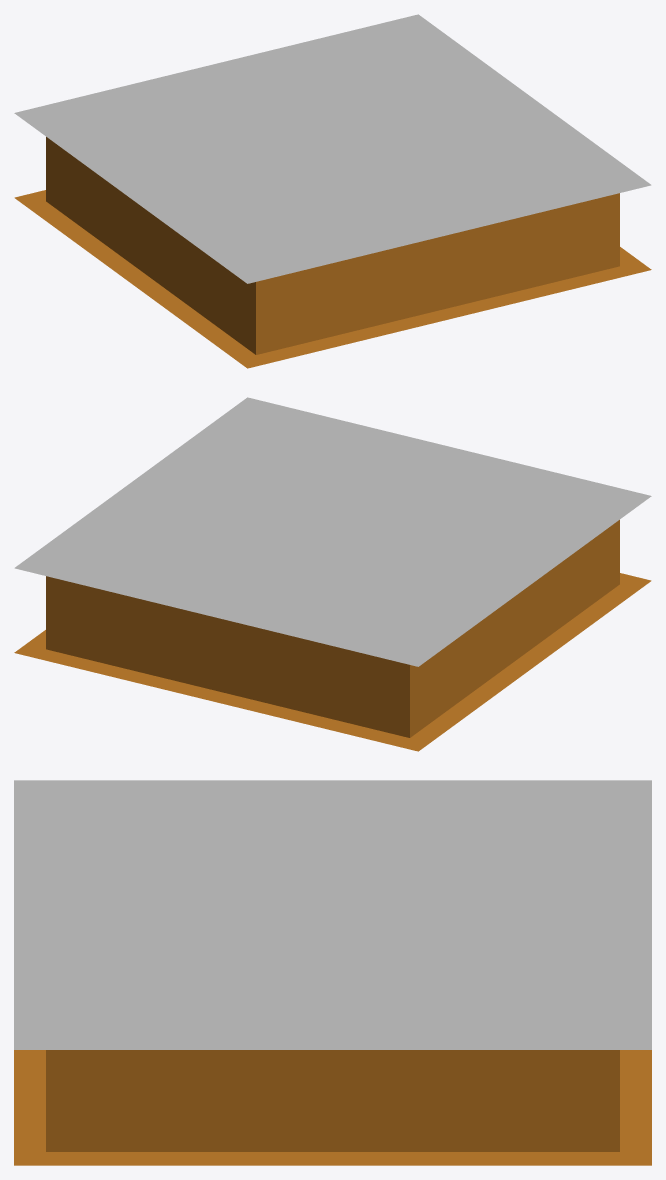
File: ceiling.glb
3 renders of one model, top to bottom at view 1: azimuth 30°, elevation 25°; view 2: azimuth 150°, elevation 25°; view 3: azimuth 270°, elevation 25°, orthographic. The views are drawn at different scales.
Parts seen in each view (by area): view 1: ceiling; view 2: ceiling; view 3: ceiling.
Boxes of the visible parts, x1,y1,x2,y2 form: ceiling: (14,14,651,368); ceiling: (14,397,651,751); ceiling: (14,780,651,1165).
Size of the model in its own units: 20 by 4 by 20.
